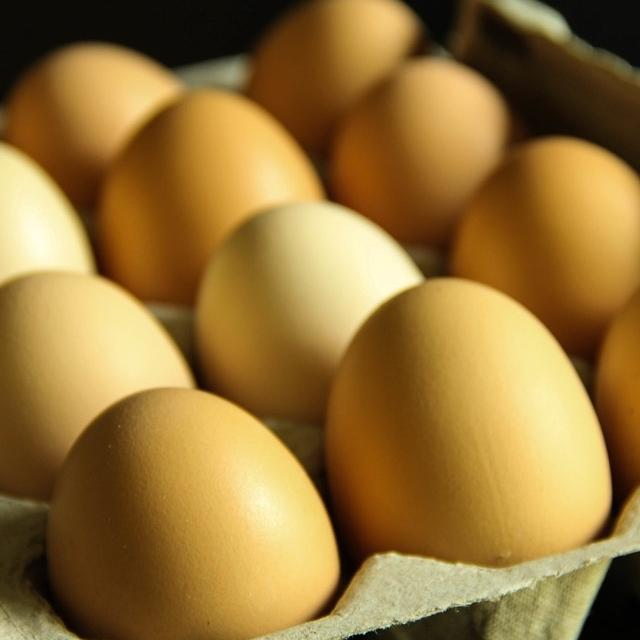egg: (323, 276, 612, 566), (44, 385, 341, 640), (192, 198, 425, 422), (93, 86, 326, 304), (0, 266, 196, 497), (449, 133, 640, 353), (327, 56, 510, 244), (3, 41, 184, 208), (246, 0, 420, 150), (0, 136, 97, 367)
